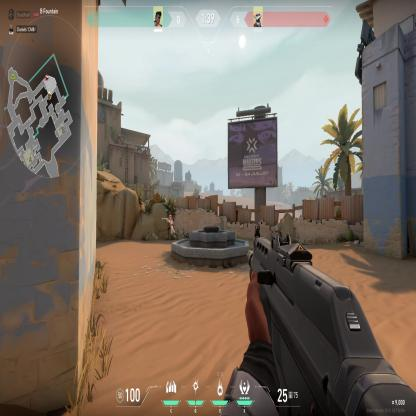enemy: (166, 214, 178, 239)
